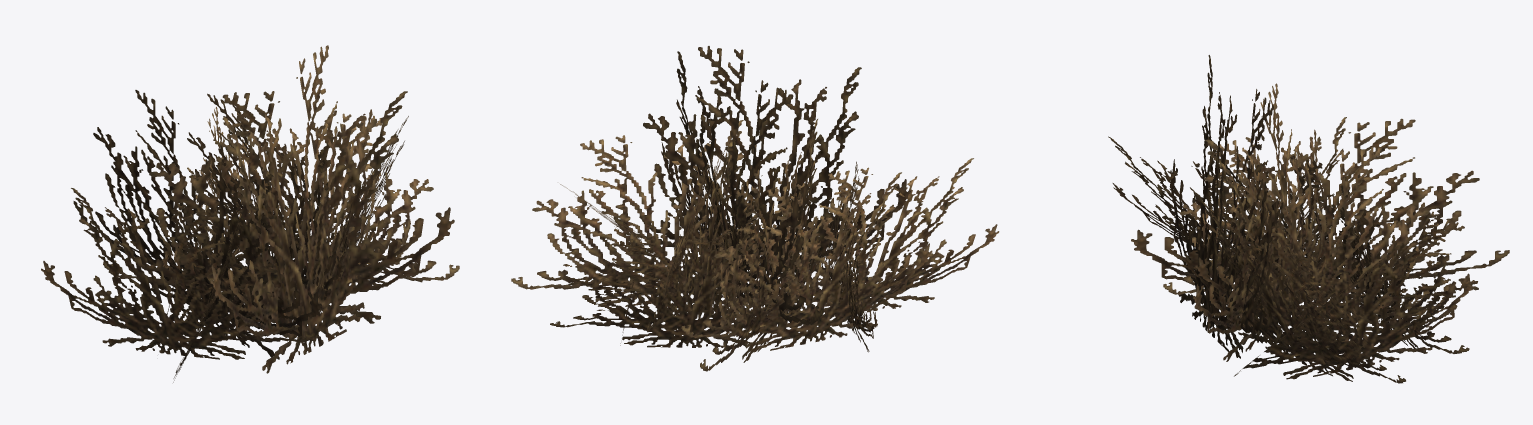
The model's file is Gobi_Plant02.FBX.
The picture shows the model from 3 angles, left to right: view 1: azimuth 30°, elevation 25°; view 2: azimuth 150°, elevation 25°; view 3: azimuth 270°, elevation 25°; orthographic projection. The views are drawn at different scales.
Visible parts, largest first — view 1: Gobi_Plant02; view 2: Gobi_Plant02; view 3: Gobi_Plant02.
Boxes of the visible parts, left/top/right/bottom form: Gobi_Plant02: left=41, top=45, right=459, bottom=382; Gobi_Plant02: left=511, top=46, right=999, bottom=371; Gobi_Plant02: left=1108, top=55, right=1509, bottom=383.
Bounding box in the file's own units: 60.33 × 38.7 × 63.74.
